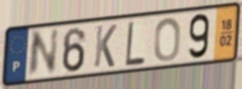6: (62, 26, 88, 74)
9: (187, 12, 211, 60)
K: (92, 23, 119, 69)
L: (124, 19, 146, 67)
N: (26, 26, 61, 80)
O: (153, 16, 182, 64)
